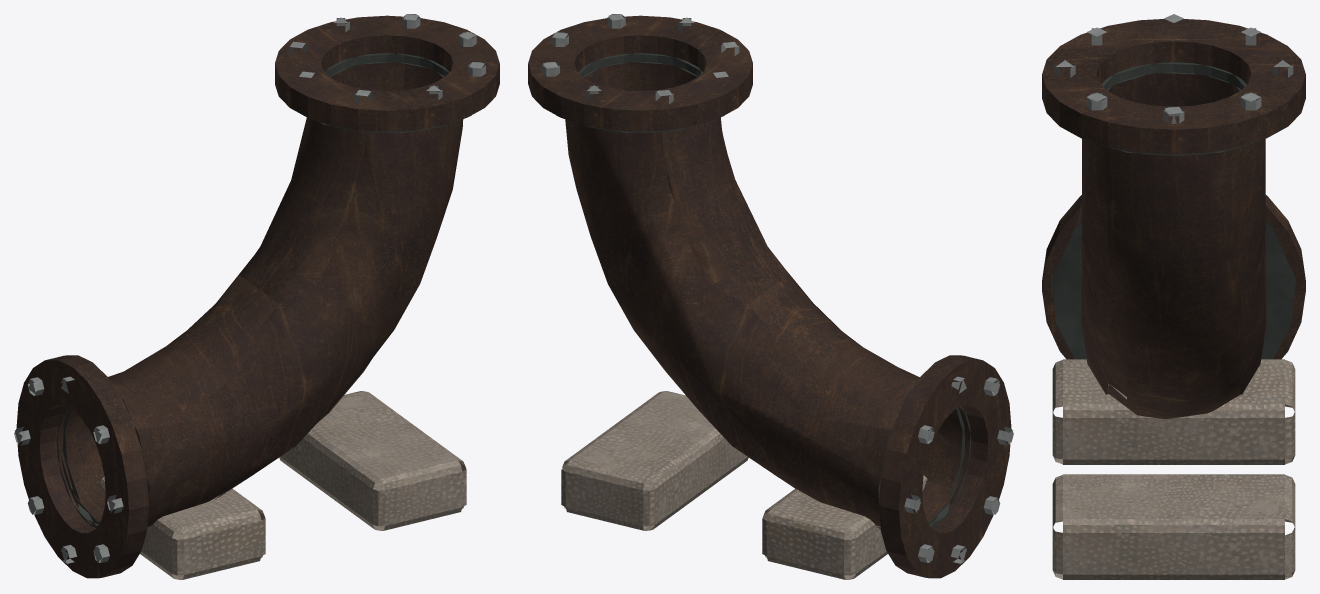
File: lod1_NOT_APPROVED.glb
3 views of the same model, side by side, from view 1: azimuth 30°, elevation 25°; view 2: azimuth 150°, elevation 25°; view 3: azimuth 270°, elevation 25° (orthographic). The views are drawn at different scales.
Parts seen in each view (by area): view 1: f3_oxidized_iron_surface, f3_weathered_concrete_surface, f3_bare_worn_steel_surface, f3_aged_rubber_surface; view 2: f3_oxidized_iron_surface, f3_weathered_concrete_surface, f3_bare_worn_steel_surface, f3_aged_rubber_surface; view 3: f3_oxidized_iron_surface, f3_weathered_concrete_surface, f3_aged_rubber_surface, f3_bare_worn_steel_surface.
Part boxes in pixels (box(x1,y1,x2,y2)): f3_oxidized_iron_surface: box(16, 15, 499, 578); f3_weathered_concrete_surface: box(96, 391, 466, 579); f3_bare_worn_steel_surface: box(14, 14, 485, 563); f3_aged_rubber_surface: box(56, 53, 471, 527); f3_oxidized_iron_surface: box(528, 15, 1011, 578); f3_weathered_concrete_surface: box(561, 391, 927, 579); f3_bare_worn_steel_surface: box(542, 14, 1013, 563); f3_aged_rubber_surface: box(556, 53, 971, 527); f3_oxidized_iron_surface: box(1042, 19, 1305, 418); f3_weathered_concrete_surface: box(1052, 359, 1295, 579); f3_aged_rubber_surface: box(1052, 62, 1295, 359); f3_bare_worn_steel_surface: box(1054, 14, 1293, 123).
Bounding box in the file's own units: 1.36 × 1.36 × 0.63.
Materials: 4 (4 with a texture image).
